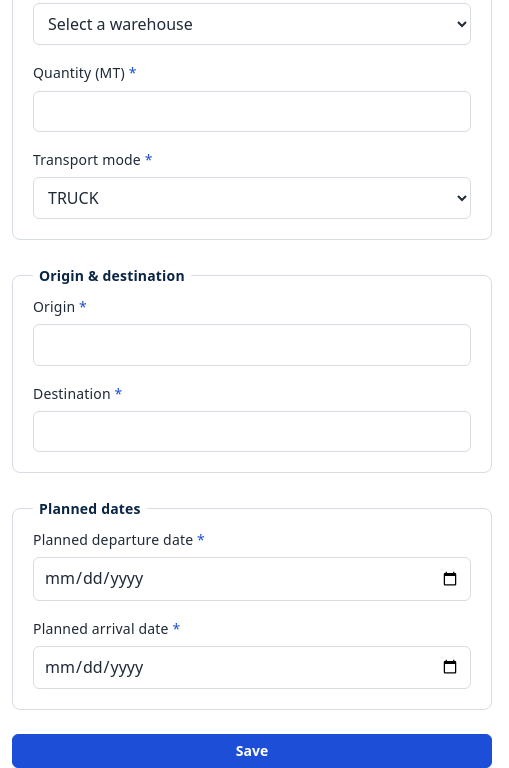
it: ShipmentForm › shows an inline required message and does not submit when a required field is empty
(page scrolled)
Step 1. Click the button "Save" → [252, 751], box [12, 734, 492, 767]
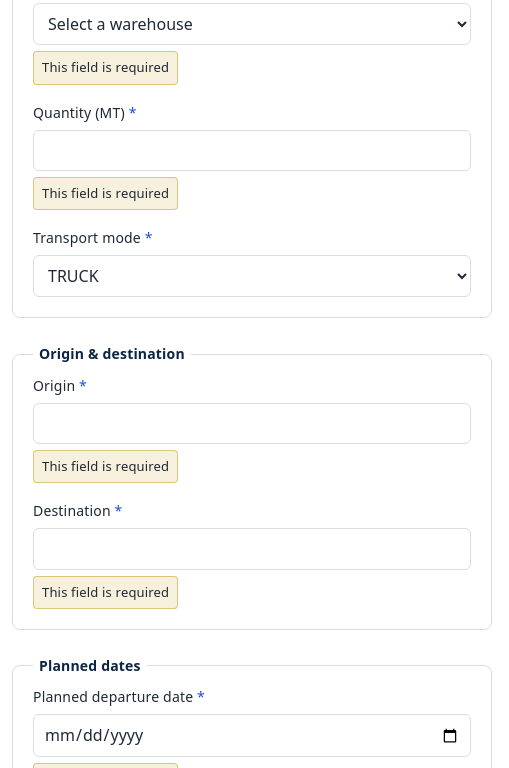
Expected: the 1st text "This field is required" is shown, [33, 51, 178, 85]
